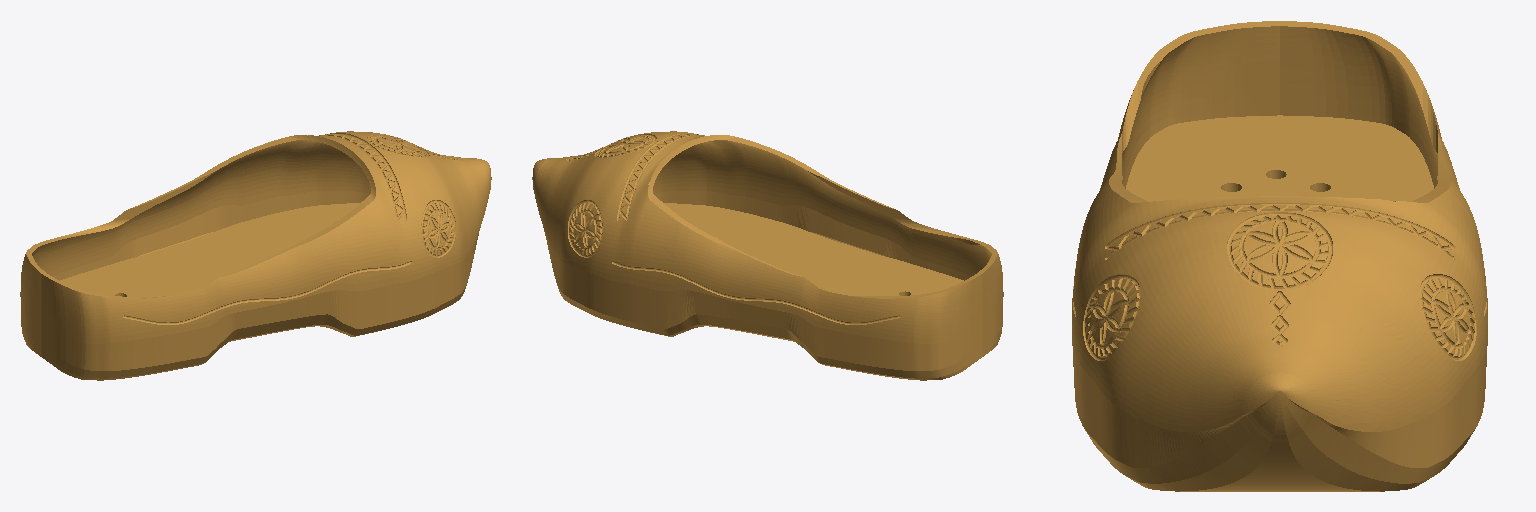
The robot description file, URDF, robot "K1_Left_Klomp":
<?xml version="1.0"?>
<!-- K1 klomp (left). Frame = K1 left_ankle_roll_link, metres. -->
<robot name="K1_Left_Klomp">
  <link name="left_klomp_link">
    <inertial>
      <origin xyz="0.043140 0.001042 -0.040256" rpy="0 0 0" />
      <mass value="0.3500" />
      <inertia ixx="3.4426e-04" ixy="-5.3495e-07" ixz="-4.9097e-05" iyy="1.3650e-03" iyz="2.0051e-07" izz="1.5992e-03" />
    </inertial>
    <visual>
      <geometry><mesh filename="meshes/Left_Klomp.STL" /></geometry>
      <material name="klomp_wood"><color rgba="0.80 0.62 0.33 1" /></material>
    </visual>
    <collision>
      <geometry><mesh filename="meshes/Left_Klomp_Collision.STL" /></geometry>
    </collision>
  </link>
</robot>

--- What the picture shows (computed from the rendered views, not written in the file) ---
Views: 3 orthographic renders of the robot side by side, from view 1: azimuth 30°, elevation 25°; view 2: azimuth 150°, elevation 25°; view 3: azimuth 270°, elevation 25°.
Model K1_Left_Klomp with 1 links and 0 joints (none), rooted at left_klomp_link, posed every joint at zero.
Visible links, largest first — view 1: left_klomp_link; view 2: left_klomp_link; view 3: left_klomp_link.
Link boxes in pixels (x1,y1,x2,y2): left_klomp_link: [20, 131, 491, 380]; left_klomp_link: [532, 131, 1003, 380]; left_klomp_link: [1072, 21, 1487, 491].
Bounding box of the posed robot: 0.229 × 0.108 × 0.067 m (x, y, z).
1 mesh visuals loaded from 1 distinct referenced files (1 binary STL).
